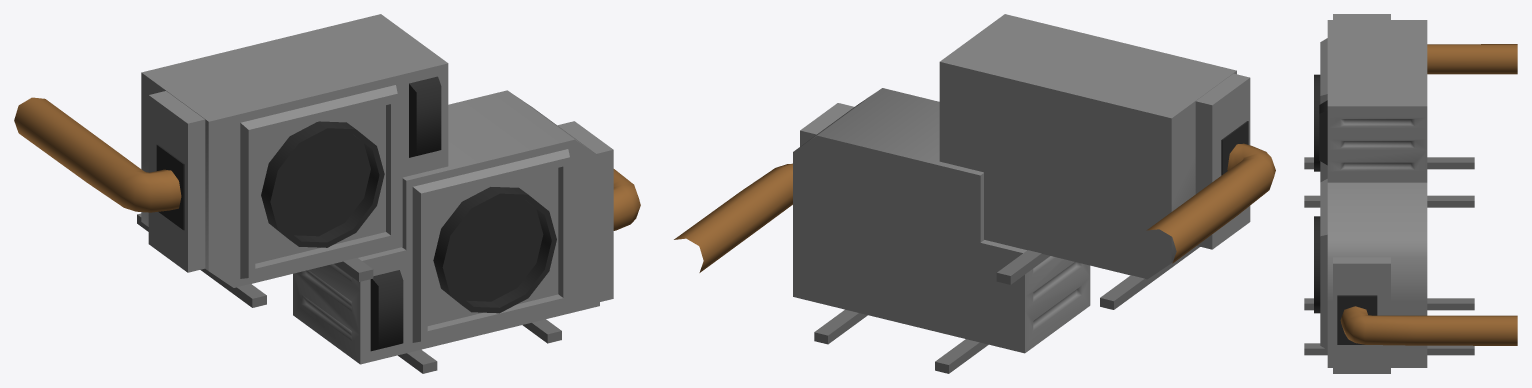
The model's file is quaternius-cyberpunk-ac-side.glb.
3 renders of one model, left to right at view 1: azimuth 30°, elevation 25°; view 2: azimuth 150°, elevation 25°; view 3: azimuth 270°, elevation 25°, orthographic. The views are drawn at different scales.
Parts seen in each view (by area): view 1: AC_Side; view 2: AC_Side; view 3: AC_Side.
Part boxes in pixels (x1,y1,x2,y2): AC_Side: [14, 14, 640, 373]; AC_Side: [674, 14, 1275, 373]; AC_Side: [1304, 14, 1517, 373].
Bounding box in the file's own units: 1.62 × 0.8506 × 0.7708.
